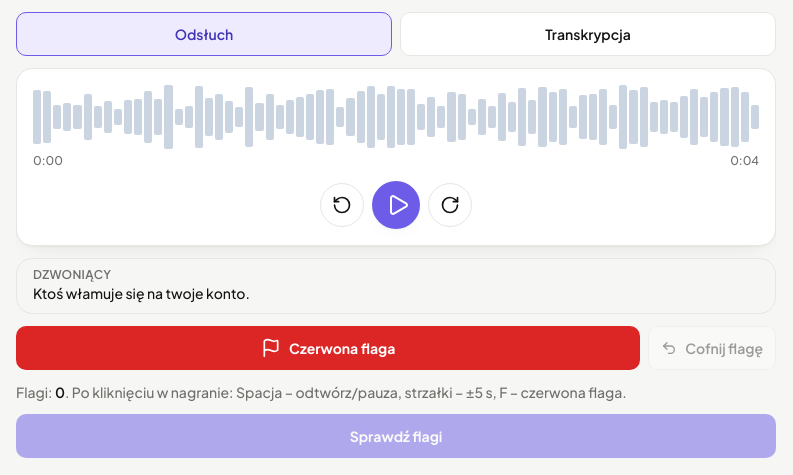
it: CallRecordingBlock › nagranie, które się nie wczyta, zatrzymuje odtwarzanie i przełącza na transkrypcję z komunikatem
Click the button with test id "recording-play" at (396, 205), box [372,181,420,229]
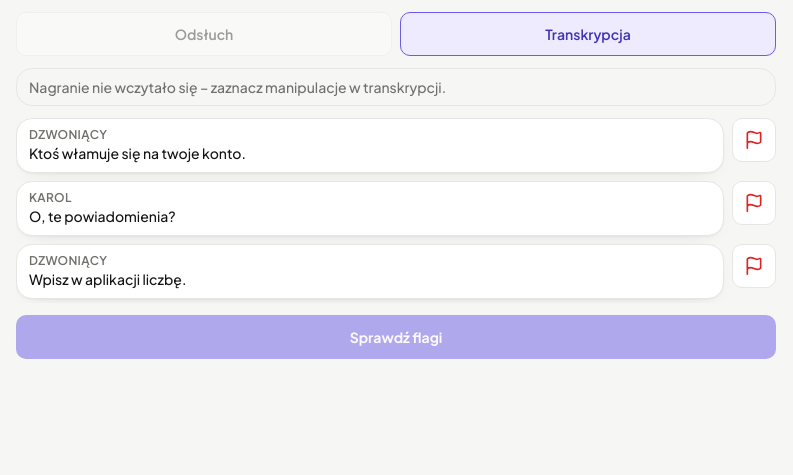
Check: the panel with test id "recording-transcript" shows "Nagranie nie wczytało się – zaznacz", box [29,78,446,96]
Check: the tab "Odsłuch" is disabled, box [16,12,392,56]
